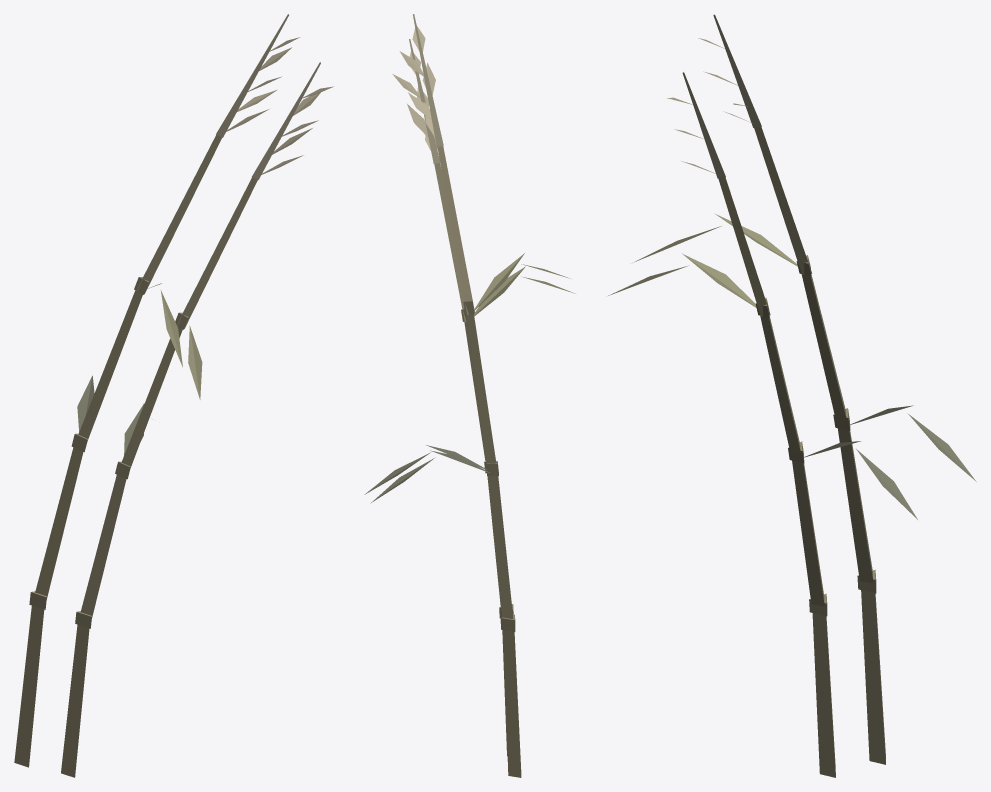
Rendered from shui.luwei@subadult__winter.glb.
3 views of the same model, side by side, from view 1: azimuth 30°, elevation 25°; view 2: azimuth 150°, elevation 25°; view 3: azimuth 270°, elevation 25° (orthographic). The views are drawn at different scales.
Visible parts, largest first — view 1: shui.luwei@subadult__winter; view 2: shui.luwei@subadult__winter; view 3: shui.luwei@subadult__winter.
Boxes of the visible parts, box(x1,y1,x2,y2) form: shui.luwei@subadult__winter: box(14, 14, 333, 777); shui.luwei@subadult__winter: box(364, 14, 575, 777); shui.luwei@subadult__winter: box(608, 14, 976, 777).
Size of the model in its own units: 0.5534 by 1.76 by 0.696.
